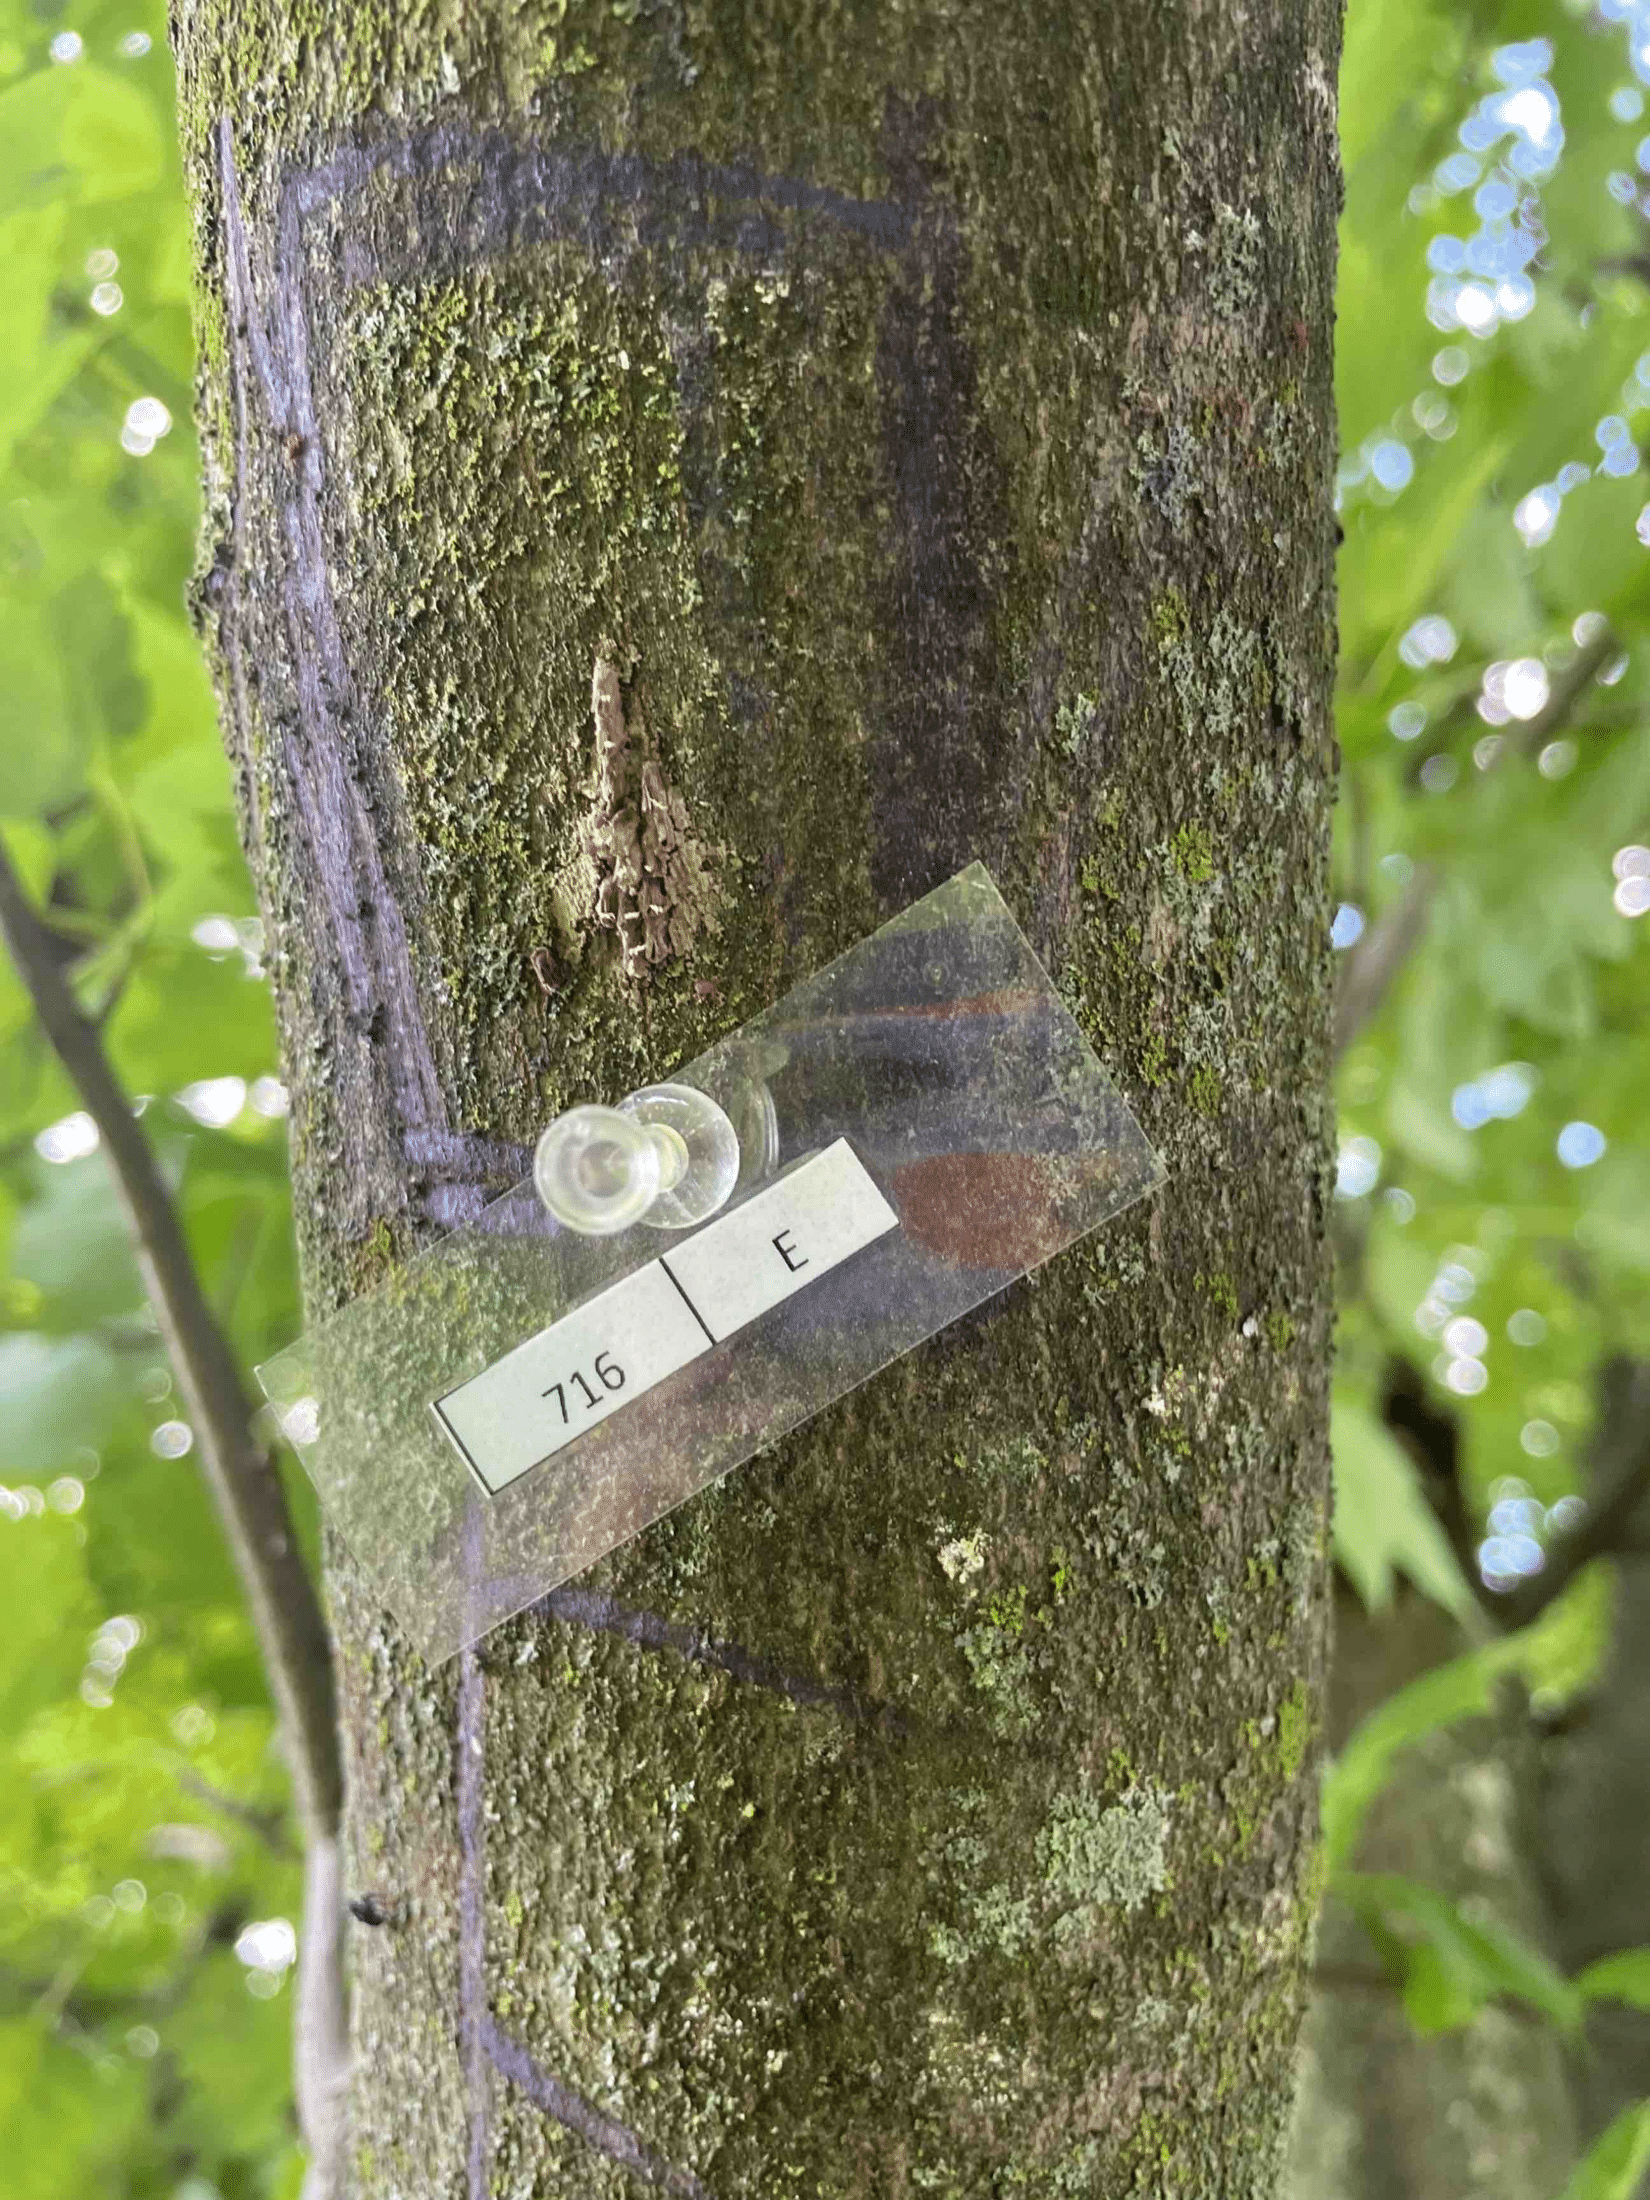egg masses: (503, 618, 716, 1005)
